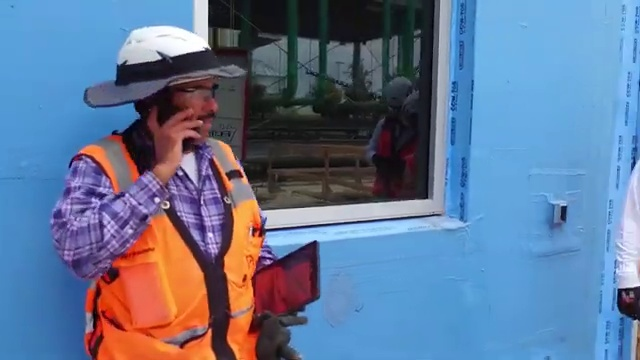helmet: (110, 18, 249, 87)
jacket: (58, 122, 278, 360)
